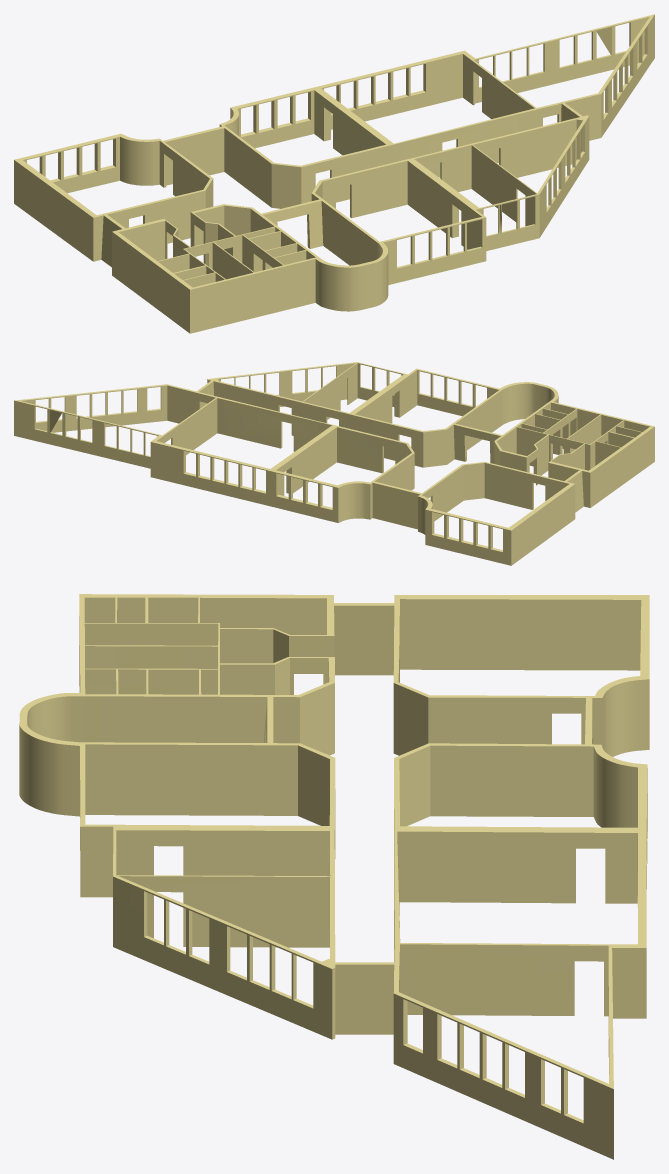
File: floor1.fbx
3 views of the same model, one above another, from view 1: azimuth 30°, elevation 25°; view 2: azimuth 150°, elevation 25°; view 3: azimuth 270°, elevation 25° (orthographic). The views are drawn at different scales.
Visible parts, largest first — view 1: iut; view 2: iut; view 3: iut.
Boxes of the visible parts, x1,y1,x2,y2 form: iut: [14, 14, 654, 333]; iut: [14, 362, 654, 565]; iut: [19, 594, 649, 1159].
Size of the model in its own units: 13520 by 899 by 7272.
